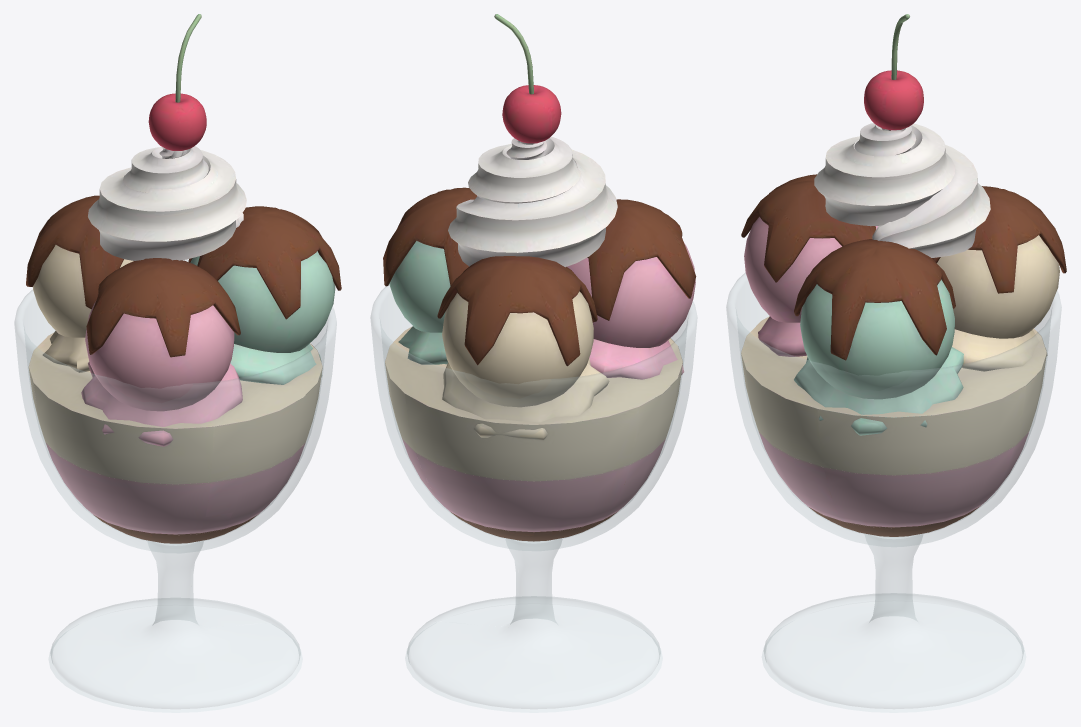
The model's file is copa_helado.glb.
The picture shows the model from 3 angles, left to right: view 1: azimuth 30°, elevation 25°; view 2: azimuth 150°, elevation 25°; view 3: azimuth 270°, elevation 25°; orthographic projection. The views are drawn at different scales.
Parts seen in each view (by area): view 1: ice-cream-sundae_body; view 2: ice-cream-sundae_body; view 3: ice-cream-sundae_body.
Boxes of the visible parts, <box> form: ice-cream-sundae_body: <box>14,14,341,712</box>; ice-cream-sundae_body: <box>370,14,697,712</box>; ice-cream-sundae_body: <box>726,14,1066,712</box>.
Bounding box in the file's own units: 0.1065 × 0.229 × 0.1072.
Materials: 2 (1 with a texture image).
